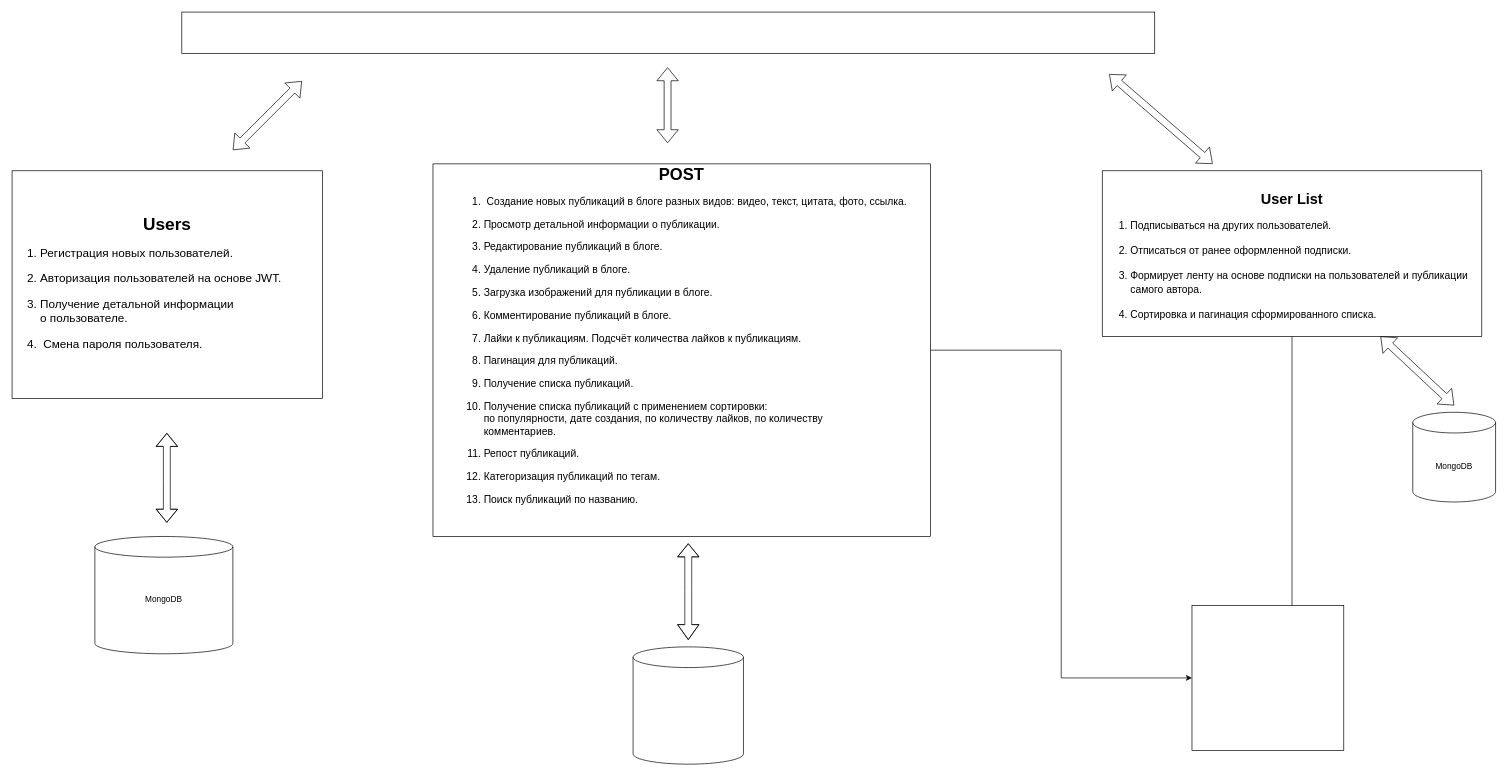
Image size: 1508x776. Some labels were removed from this diagram. The shapes that lost their labels are listed below. From the top down, each one's centre as x and y in pixels, then its label:
(668,32): BFF
(1267,677): Subscribe 1.16. Рассылка почтовых уведомлений
(687,705): PostgreSQL
